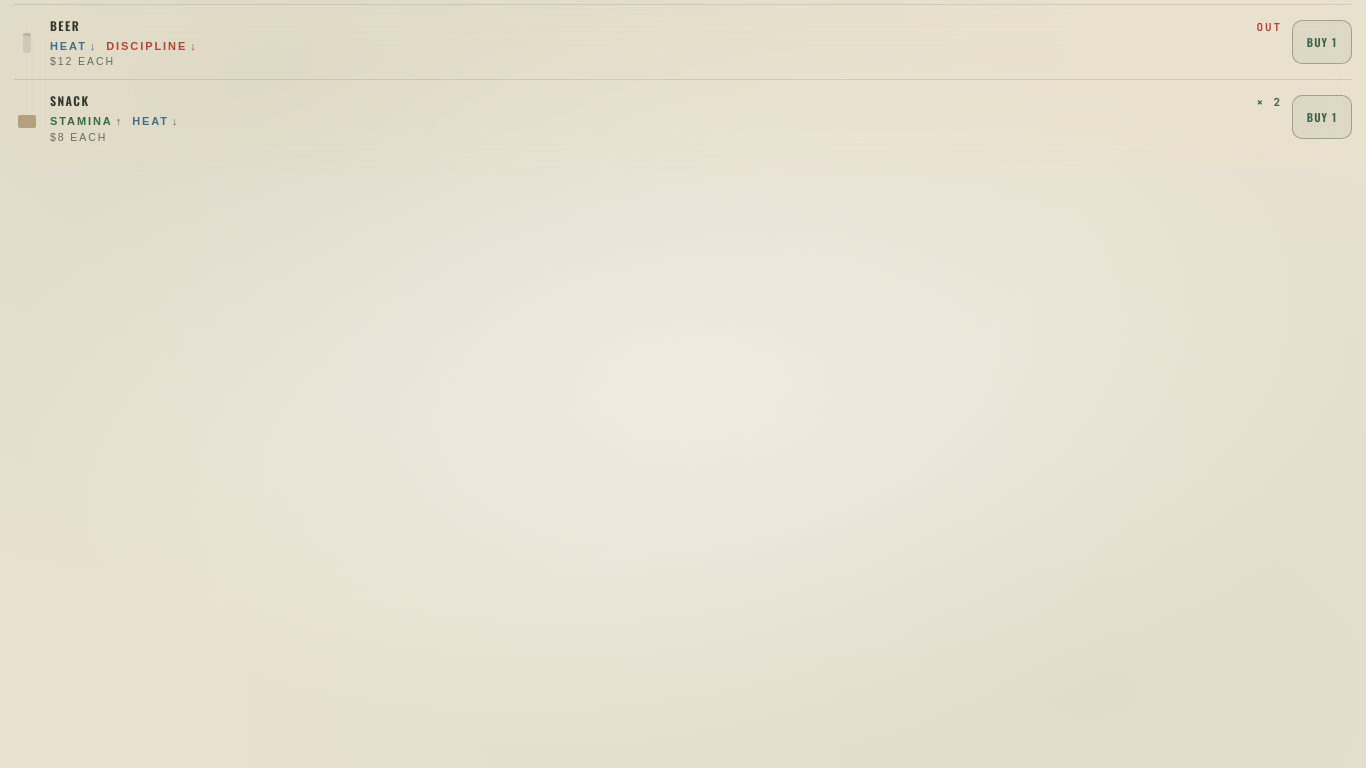
Test: UI-3 job D: the fridge shows arrows, not an essay, until the item is tapped
Expected: the button with aria-label "Buy 1 beer" is enabled, [1292,20,1352,64]
Expected: the text "Cools him down, but lowers discipline and increases bluffing next session." is not shown
Note: Tapping the beer item reveals its one sentence, and only its own.
Click the button with aria-label "BEER:": (65, 26) [14,17,1282,67]
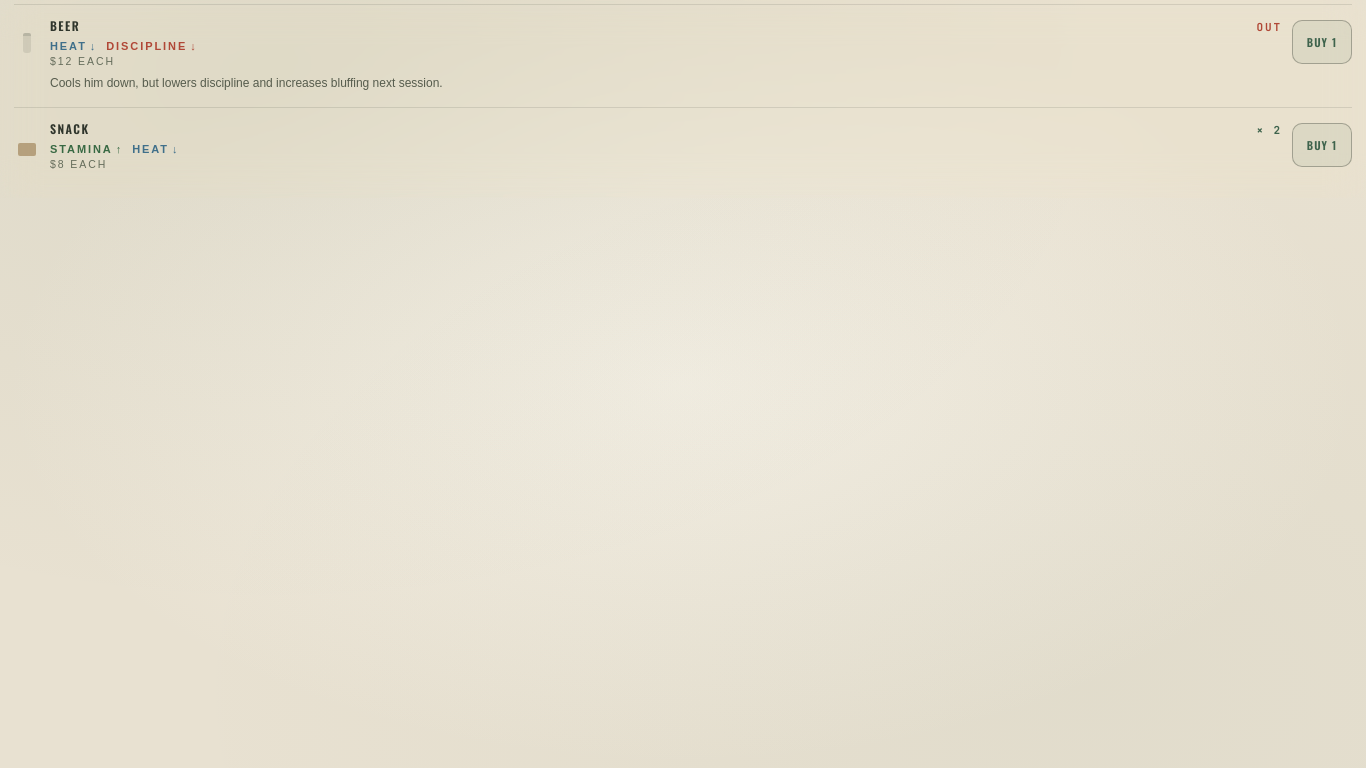
Now the text "Cools him down, but lowers discipline and increases bluffing next session." is shown, box [50,76,443,90]
Note: Tapping it again closes it back up.
Click the button with aria-label "BEER:": (65, 26) [14,17,1282,67]
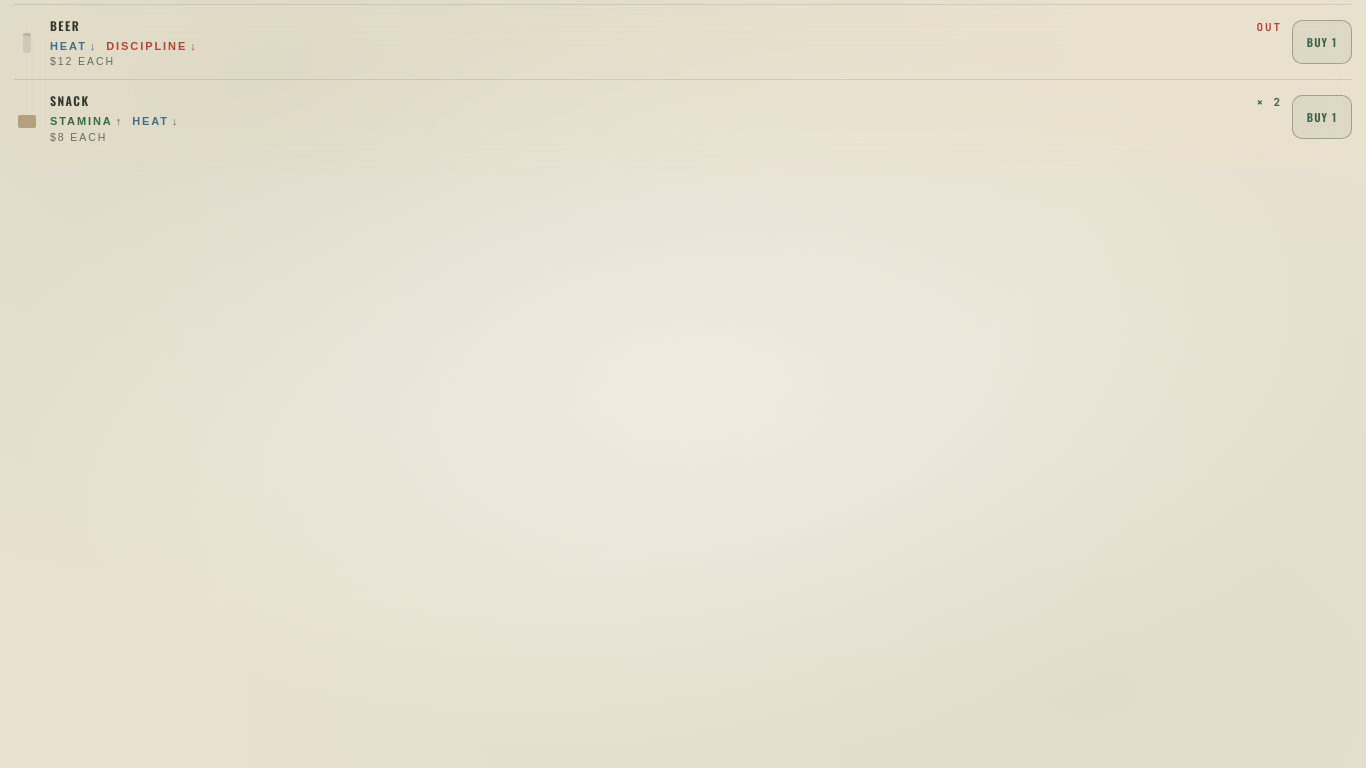
Now the text "Cools him down, but lowers discipline and increases bluffing next session." is gone
